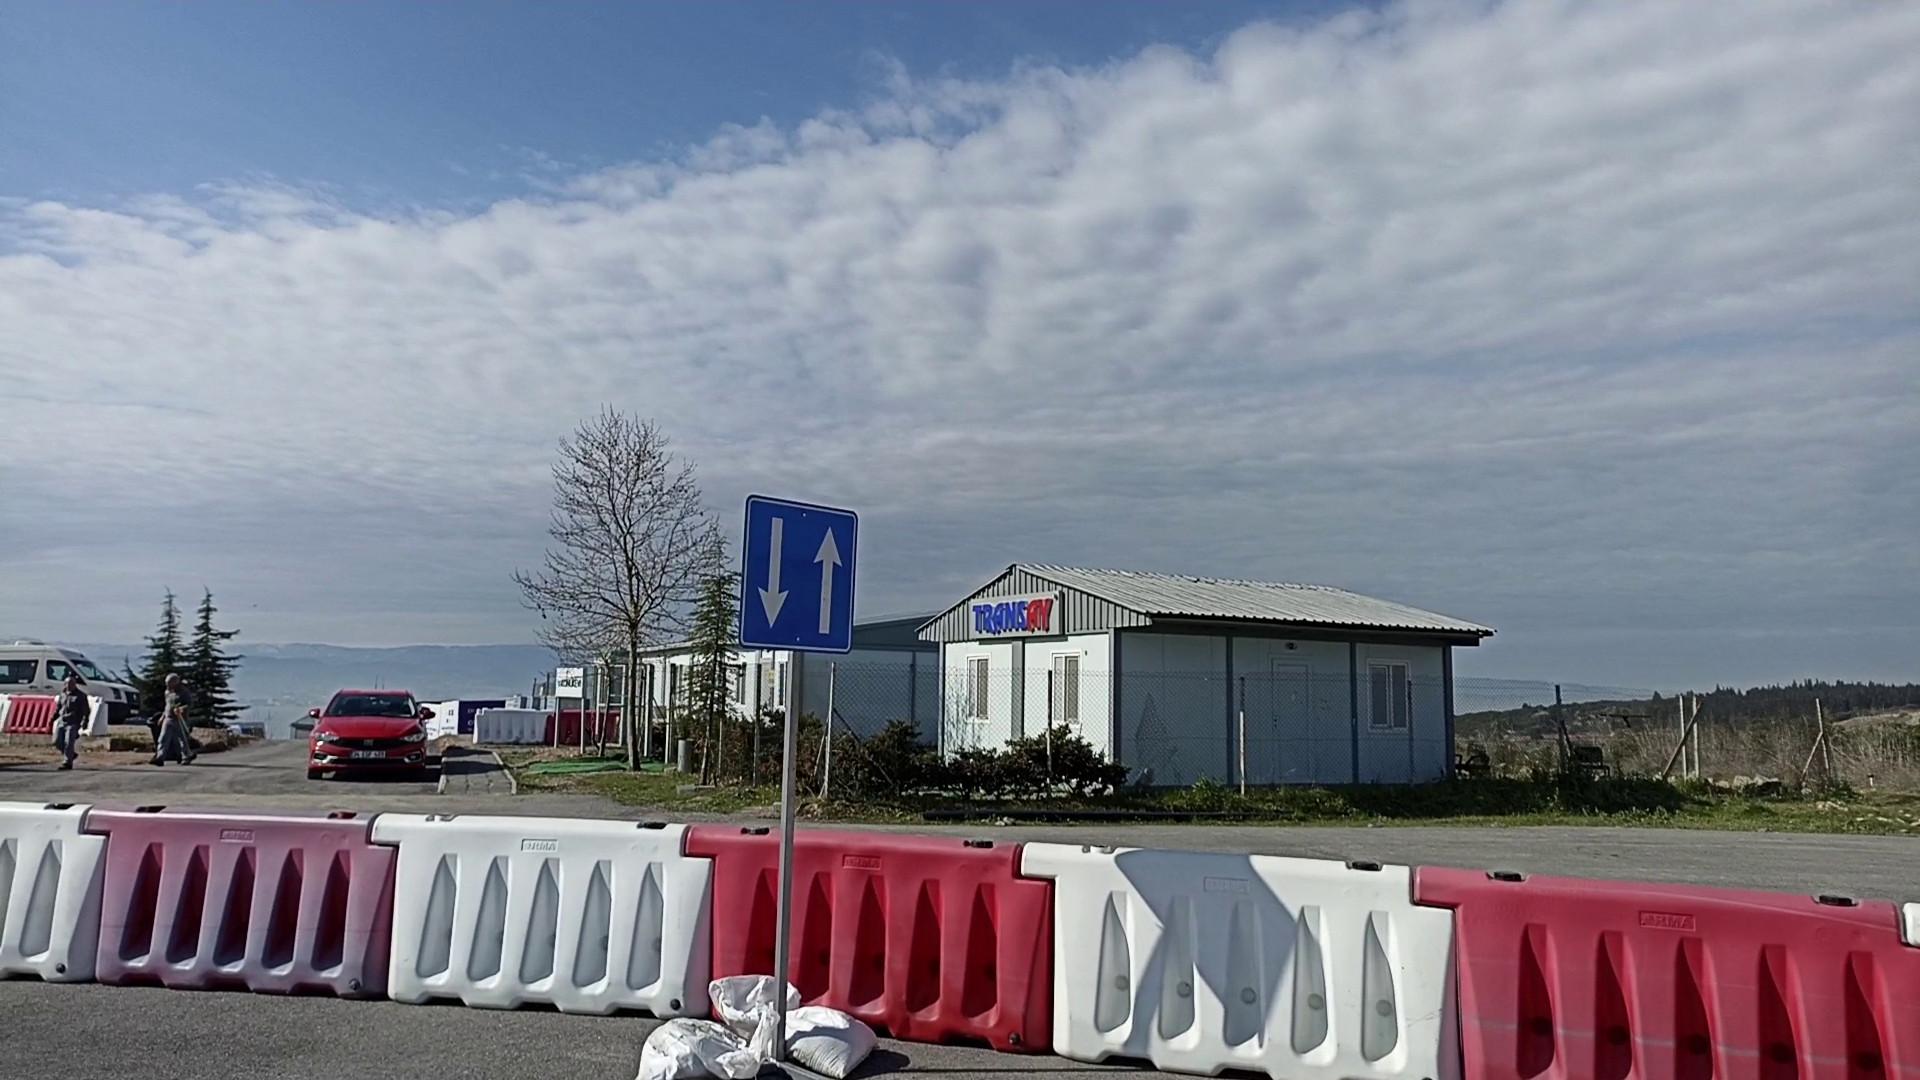oneway: (735, 492, 862, 655)
